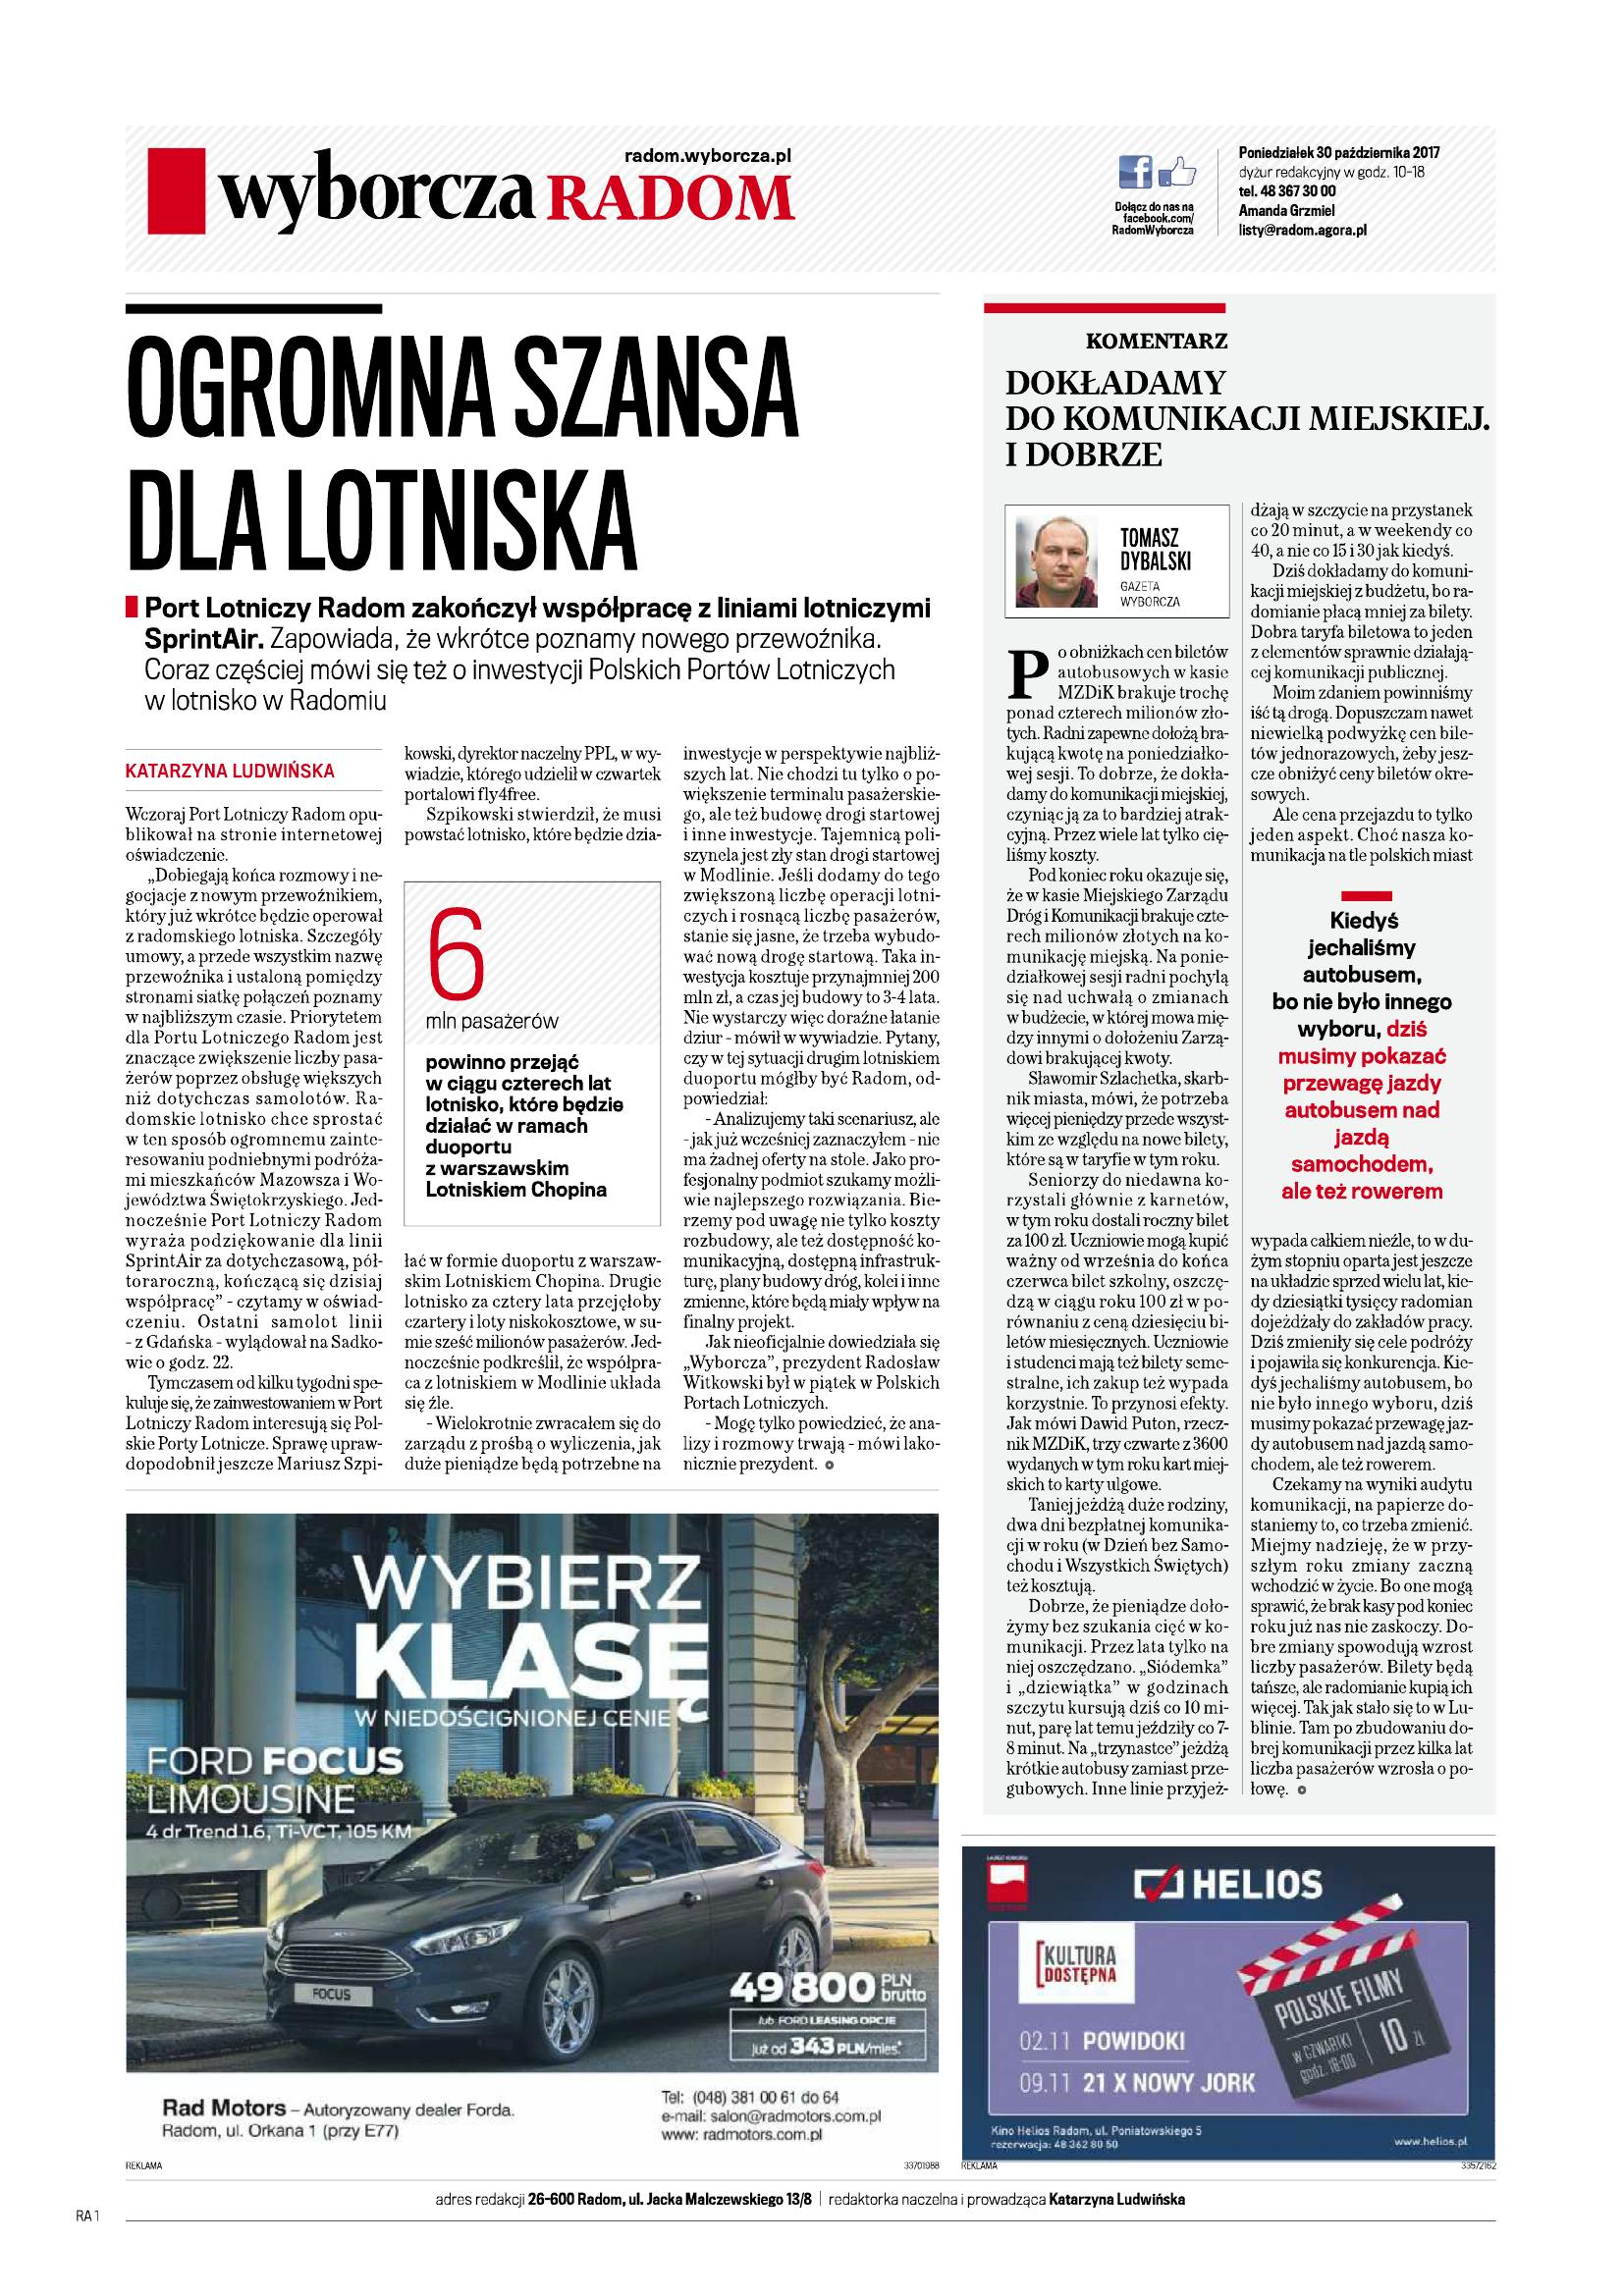article: (112, 291, 950, 1490), (980, 295, 1488, 1808)
